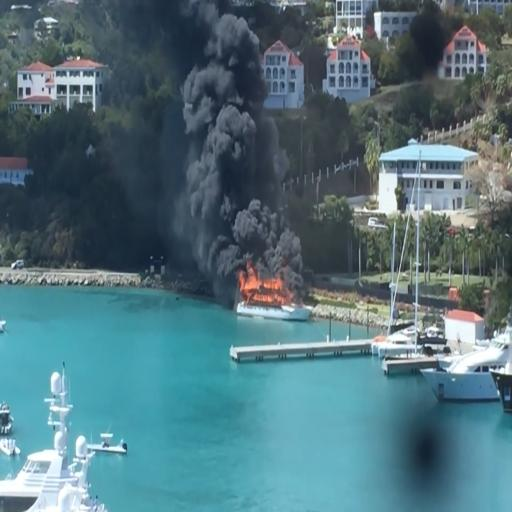fire: (234, 259, 282, 310)
smoke: (179, 57, 280, 275)
